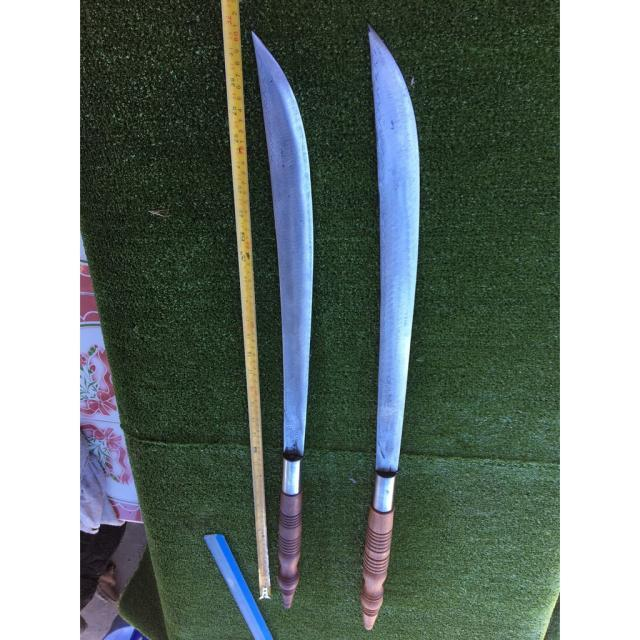long sword: (358, 26, 454, 630), (248, 28, 316, 608)
